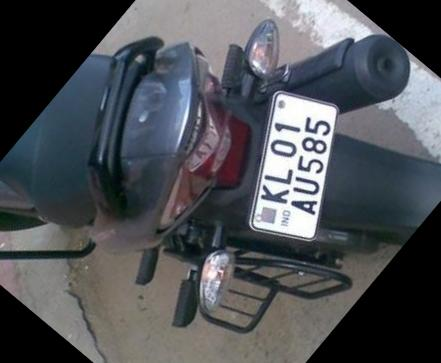plate: (210, 76, 372, 248)
